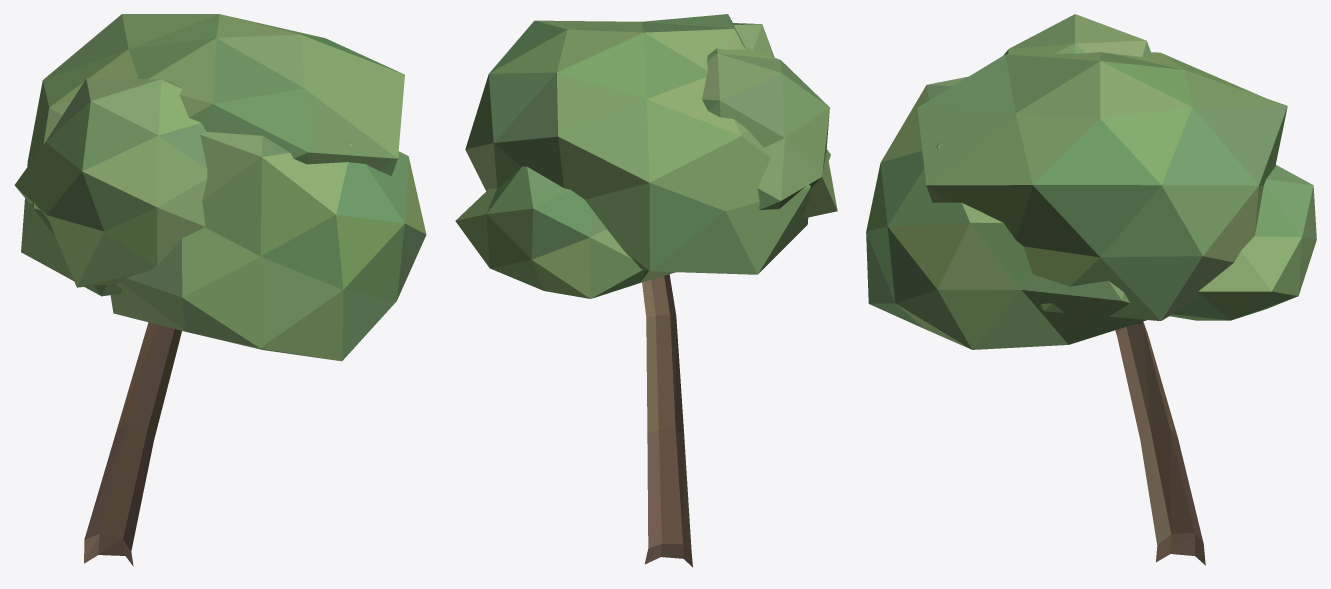
The model's file is Tree_Broadleaf_01.glb.
3 views of the same model, side by side, from view 1: azimuth 30°, elevation 25°; view 2: azimuth 150°, elevation 25°; view 3: azimuth 270°, elevation 25° (orthographic). The views are drawn at different scales.
Visible parts, largest first — view 1: Tree_Broadleaf_01; view 2: Tree_Broadleaf_01; view 3: Tree_Broadleaf_01.
Boxes of the visible parts, bbox=[...] form: Tree_Broadleaf_01: bbox=[14, 14, 426, 566]; Tree_Broadleaf_01: bbox=[455, 14, 837, 567]; Tree_Broadleaf_01: bbox=[866, 14, 1316, 565].
Size of the model in its own units: 5.47 by 8.37 by 6.38.
